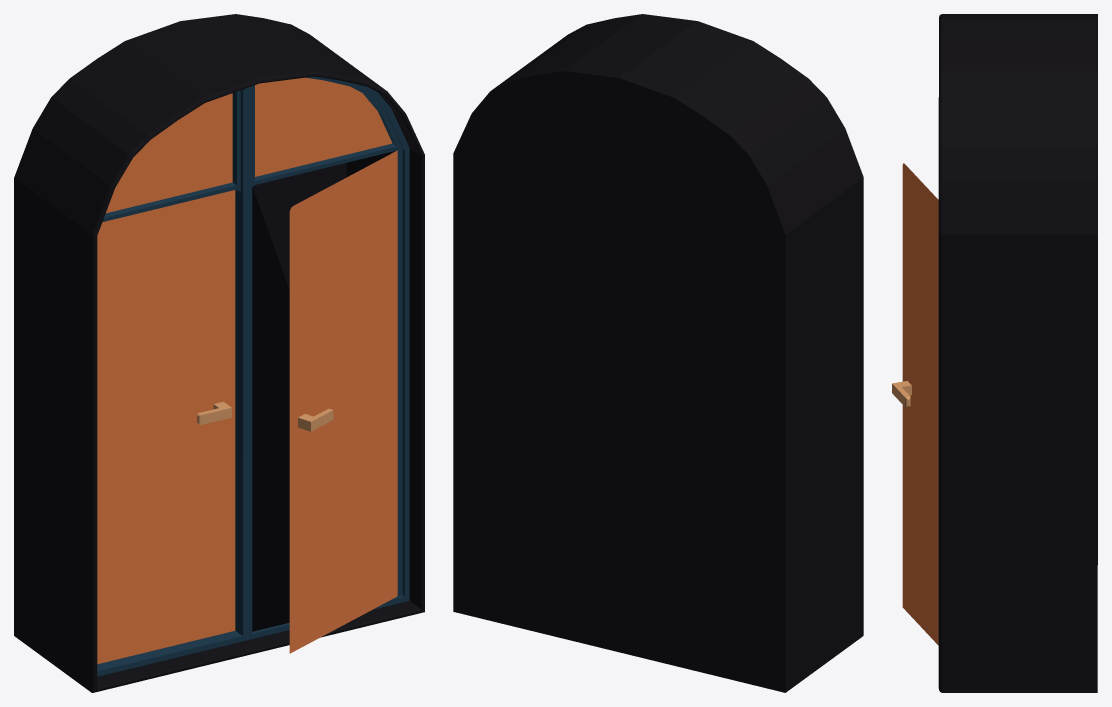
The model's file is Jogo_Final_Porta_Aberta.fbx.
The picture shows the model from 3 angles, left to right: view 1: azimuth 30°, elevation 25°; view 2: azimuth 150°, elevation 25°; view 3: azimuth 270°, elevation 25°; orthographic projection.
Visible parts, largest first — view 1: Porta_solta; view 2: Porta_solta; view 3: Porta_solta.
Boxes of the visible parts, left/top/right/bottom form: Porta_solta: left=14, top=14, right=424, bottom=692; Porta_solta: left=453, top=14, right=863, bottom=692; Porta_solta: left=892, top=14, right=1097, bottom=692.
Size of the model in its own units: 326 by 538 by 175.
